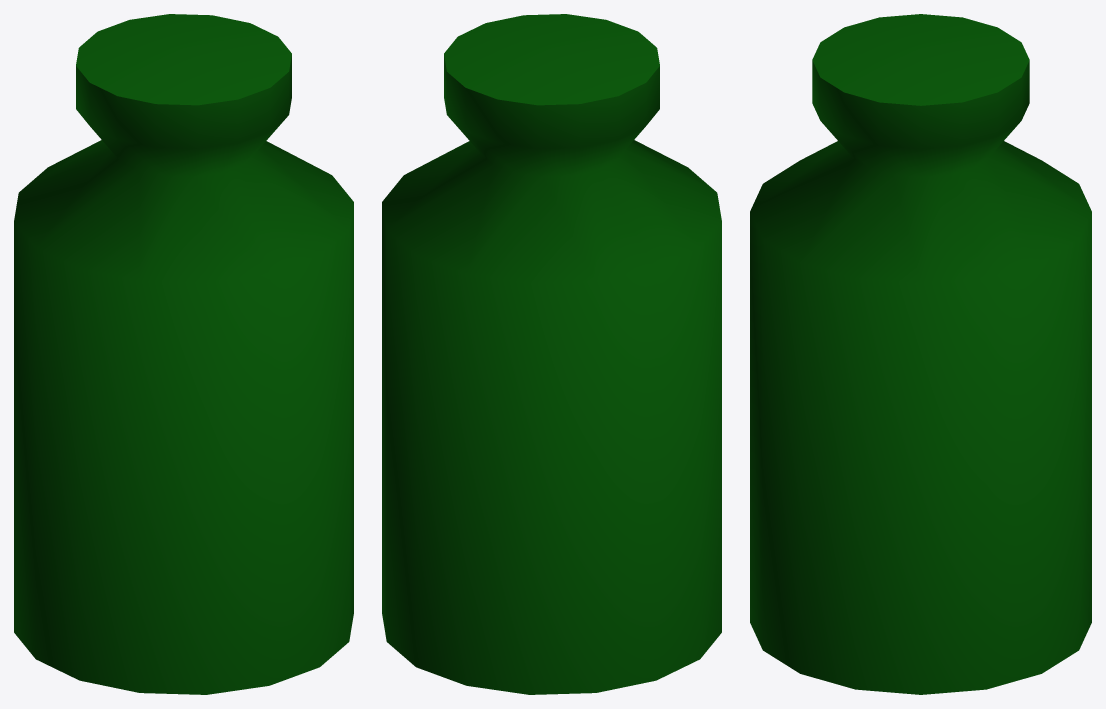
The model's file is various02a.FBX.
The picture shows the model from 3 angles, left to right: view 1: azimuth 30°, elevation 25°; view 2: azimuth 150°, elevation 25°; view 3: azimuth 270°, elevation 25°; orthographic projection.
Parts seen in each view (by area): view 1: SM_various02a_0; view 2: SM_various02a_0; view 3: SM_various02a_0.
Boxes of the visible parts, box(x1,y1,x2,y2) form: SM_various02a_0: box(14, 14, 353, 694); SM_various02a_0: box(382, 14, 721, 694); SM_various02a_0: box(750, 14, 1091, 694).
Bounding box in the file's own units: 7.4 × 7.4 × 13.68.
